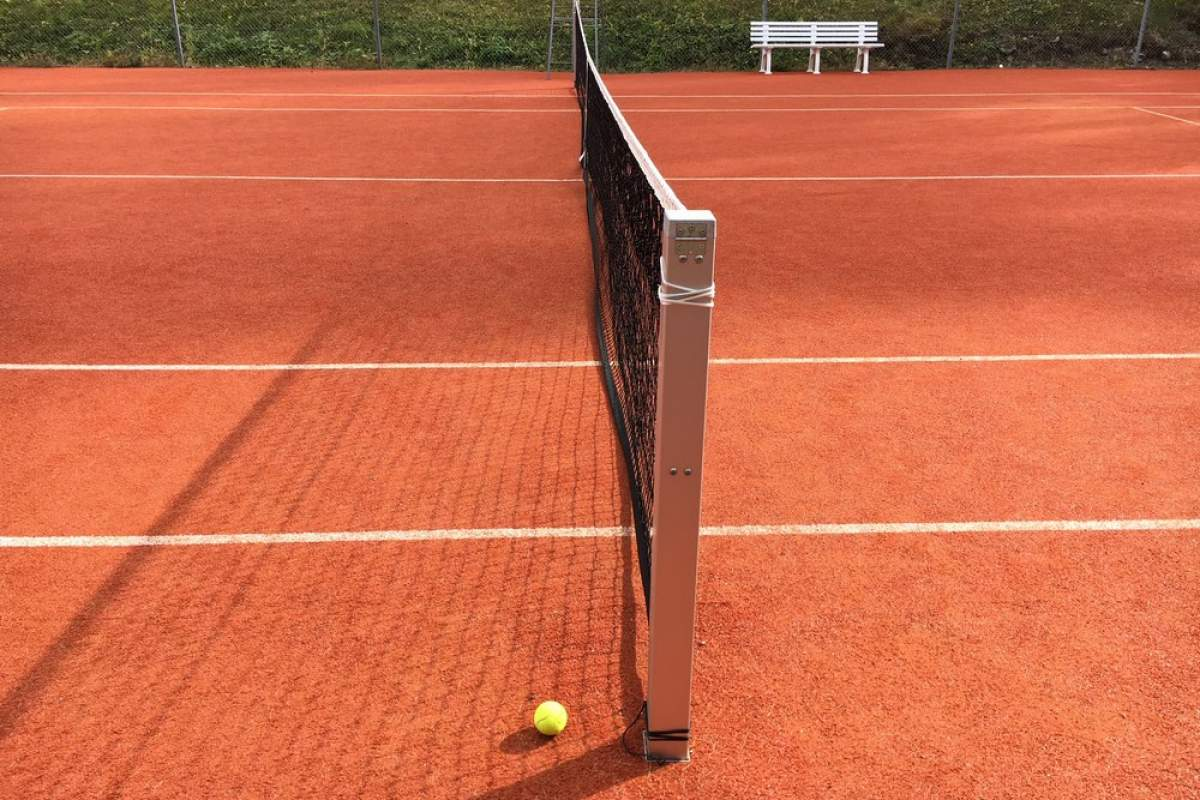tennis_ball: (530, 698, 568, 741)
